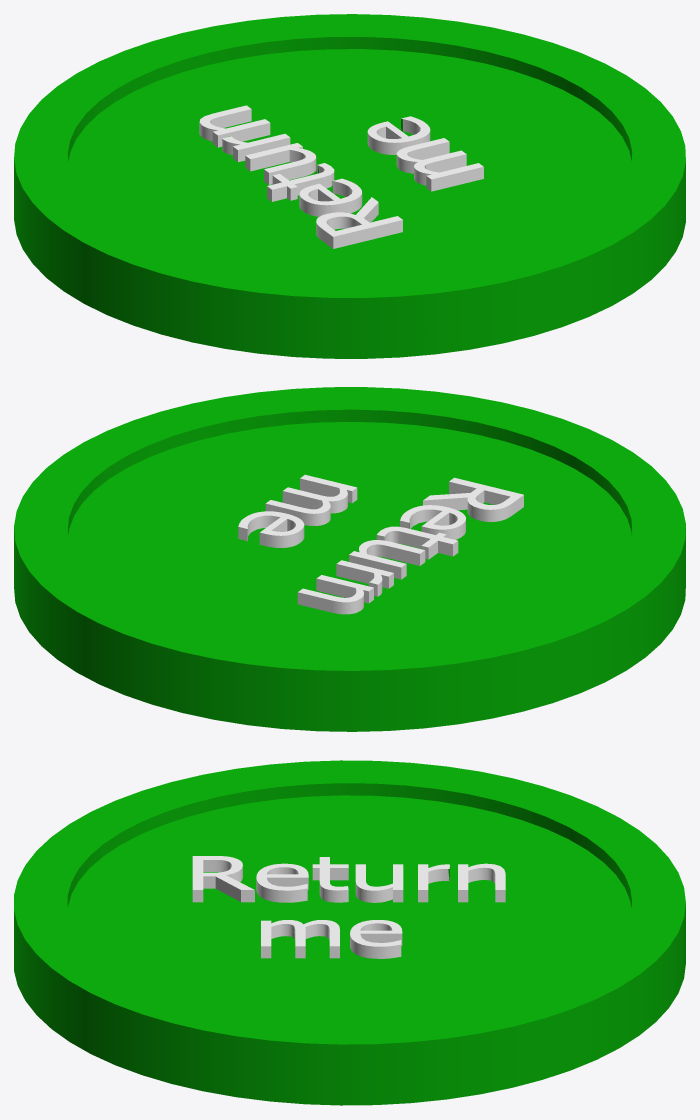
File: return-me-back.glb
3 renders of one model, top to bottom at view 1: azimuth 30°, elevation 25°; view 2: azimuth 150°, elevation 25°; view 3: azimuth 270°, elevation 25°, orthographic.
Visible parts, largest first — view 1: Solid1; view 2: Solid1; view 3: Solid1.
Boxes of the visible parts, left/top/right/bottom form: Solid1: left=14, top=14, right=685, bottom=358; Solid1: left=14, top=387, right=685, bottom=731; Solid1: left=14, top=760, right=685, bottom=1105.
Size of the model in its own units: 0.025 by 0.0025 by 0.025.
